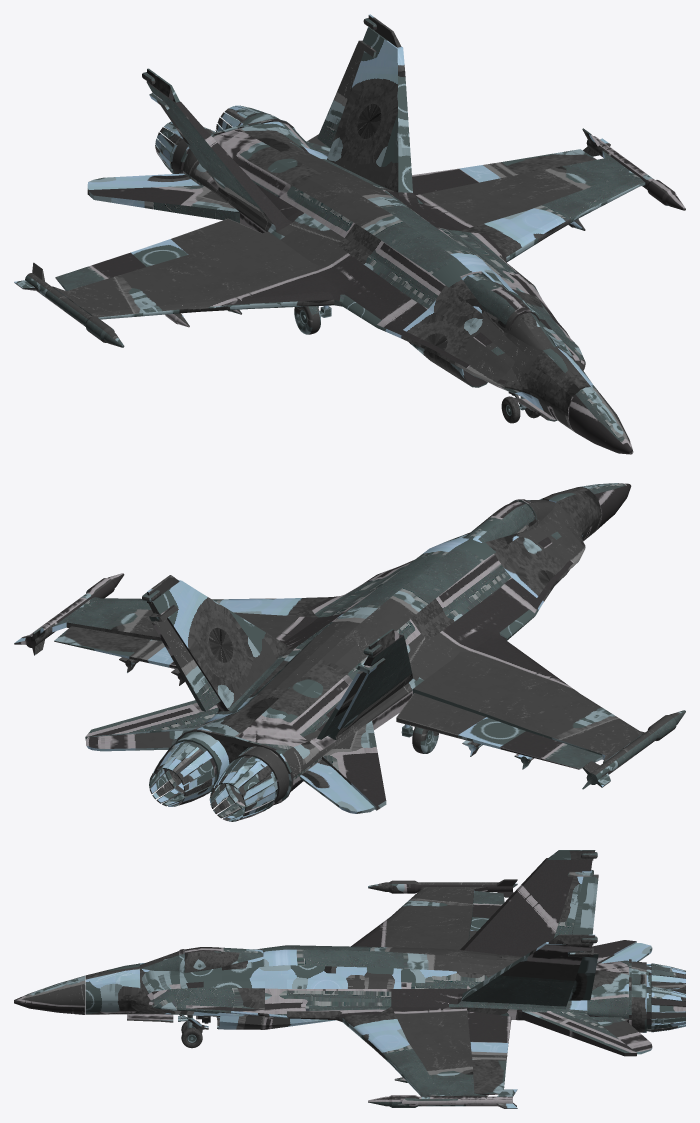
File: uploads_files_6084318_f+jet.fbx
3 views of the same model, one above another, from view 1: azimuth 30°, elevation 25°; view 2: azimuth 150°, elevation 25°; view 3: azimuth 270°, elevation 25° (orthographic). The views are drawn at different scales.
Parts seen in each view (by area): view 1: polySurface100, pPlane1, pCylinder10, polySurface56, polySurface54, polySurface42, polySurface62, polySurface41, polySurface72, polySurface47, polySurface39, pCylinder11 (+3 smaller); view 2: polySurface100, pCylinder11, pCylinder4, polySurface42, polySurface54, pPlane1, polySurface62, polySurface56, polySurface72, polySurface47, polySurface73, polySurface41 (+3 smaller); view 3: polySurface100, pCylinder4, polySurface42, pPlane1, pCylinder10, polySurface41, pCylinder11, polySurface56, polySurface39, polySurface47, polySurface73, polySurface62 (+4 smaller).
Boxes of the visible parts, box(x1,y1,x2,y2) form: polySurface100: box(52, 27, 645, 431); pPlane1: box(462, 273, 555, 350); pCylinder10: box(568, 387, 633, 454); polySurface56: box(14, 262, 124, 347); polySurface54: box(171, 218, 261, 254); polySurface42: box(156, 44, 364, 170); polySurface62: box(55, 252, 145, 290); polySurface41: box(582, 128, 685, 210); polySurface72: box(87, 173, 199, 189); polySurface47: box(501, 149, 596, 174); polySurface39: box(412, 168, 478, 195); pCylinder11: box(155, 121, 215, 173); polySurface100: box(52, 487, 644, 810); pCylinder11: box(209, 746, 289, 821); pCylinder4: box(149, 731, 229, 806); polySurface42: box(152, 618, 366, 739); polySurface54: box(396, 693, 485, 737); pPlane1: box(463, 499, 555, 542); polySurface62: box(500, 731, 603, 769); polySurface56: box(582, 710, 685, 789); polySurface72: box(299, 759, 374, 813); polySurface47: box(54, 626, 150, 658); polySurface73: box(86, 730, 188, 751); polySurface41: box(14, 573, 124, 655); polySurface100: box(85, 858, 637, 1096); pCylinder4: box(631, 984, 685, 1032); polySurface42: box(568, 874, 598, 1000); pPlane1: box(140, 947, 262, 972); pCylinder10: box(14, 975, 85, 1014); polySurface41: box(368, 1089, 517, 1108); pCylinder11: box(631, 961, 685, 993); polySurface56: box(368, 879, 517, 897); polySurface39: box(467, 1011, 511, 1043); polySurface47: box(472, 1060, 506, 1095); polySurface73: box(590, 1016, 652, 1054); polySurface62: box(472, 891, 504, 918).
Size of the model in its own units: 4.71 by 1.51 by 5.96.
Materials: 1 (1 with a texture image).
